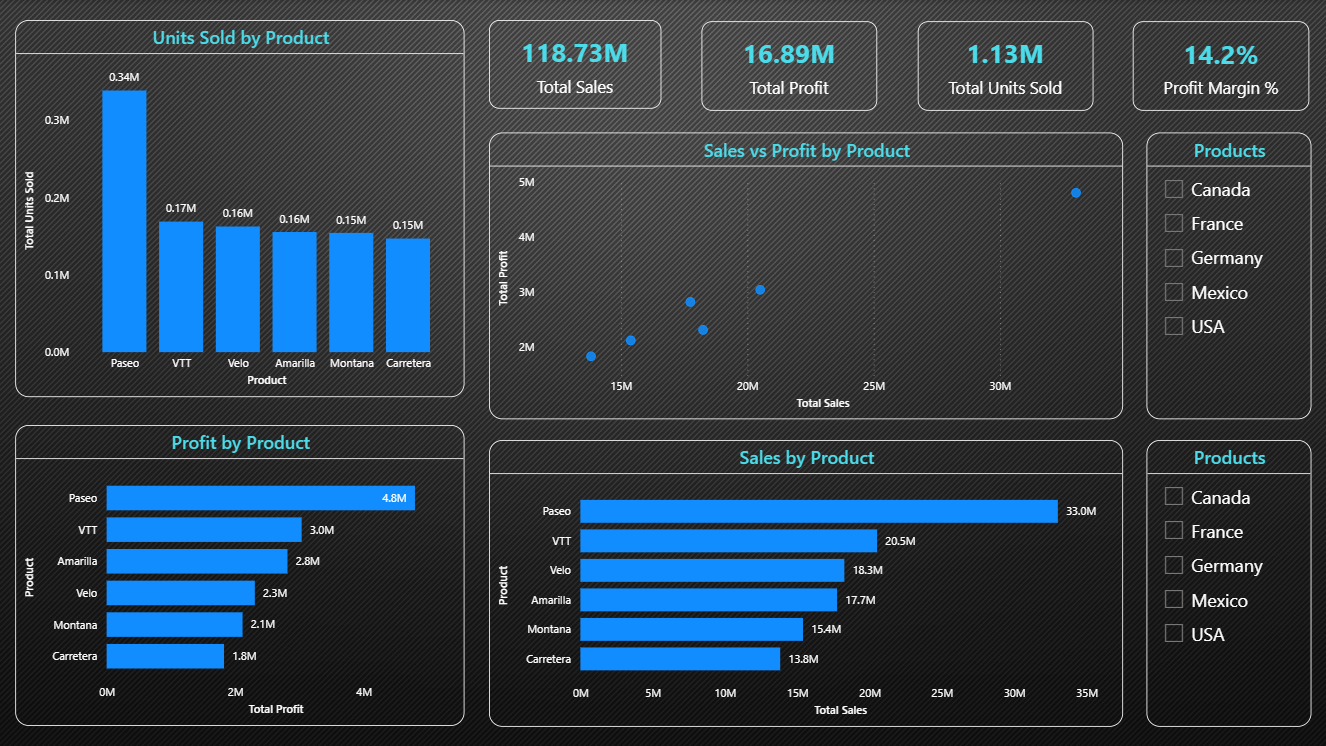

Layout of this report page (visuals, bound fields, positions):
{"tool":"powerbi","page":{"name":"Product & Profitability","canvas":[1280,720],"ordinal":1},"visuals":[{"type":"group","id":"g1","title":"Group 1","box":[472.6,19.4,792.3,87.2],"z":0},{"type":"card","fields":{"Values":["Measures_.Total Sales"]},"box":[472.6,19.4,166.1,85.6],"z":0,"group":"g1"},{"type":"card","fields":{"Values":["Measures_.Total Profit"]},"box":[677.6,20.1,169.4,86.1],"z":1000,"group":"g1"},{"type":"clusteredBarChart","title":"Sales by Product","fields":{"Category":["Financials.Product"],"Y":["Measures_.Total Sales"]},"box":[472.6,424.2,612.1,277],"z":1000},{"type":"card","fields":{"Values":["Measures_.Total Units Sold"]},"box":[886,20.1,169.4,86.1],"z":2000,"group":"g1"},{"type":"clusteredBarChart","title":"Profit by Product","fields":{"Category":["Financials.Product"],"Y":["Measures_.Total Profit"]},"box":[15.5,410.7,433.9,290.6],"z":2000},{"type":"clusteredColumnChart","title":"Units Sold by Product","fields":{"Category":["Financials.Product"],"Y":["Measures_.Total Units Sold"]},"box":[15.5,19.4,433.9,364.2],"z":3000},{"type":"card","fields":{"Values":["Measures_.Profit Margin %"]},"box":[1094.5,20.1,170.4,86.5],"z":3000,"group":"g1"},{"type":"scatterChart","title":"Sales vs Profit by Product","fields":{"Category":["Financials.Product"],"X":["Measures_.Total Sales"],"Y":["Measures_.Total Profit"]},"box":[472.6,127.8,612.1,277],"z":4000},{"type":"slicer","title":"Products","fields":{"Values":["Financials.Country"]},"box":[1108,127.8,158.8,277],"z":5000},{"type":"slicer","title":"Products","fields":{"Values":["Financials.Country"]},"box":[1108,424.2,158.8,277],"z":6000}]}

Visuals, with their boxes in screenshot pixels (x1, y1, x2, y2), scaled from the page's 1280x720 canvas onto the 1326x746 screenshot:
"Group 1" group: 490, 20, 1310, 110
card - Measures_.Total Sales: 490, 20, 662, 109
card - Measures_.Total Profit: 702, 21, 877, 110
"Sales by Product" clusteredBarChart: 490, 440, 1124, 727
card - Measures_.Total Units Sold: 918, 21, 1093, 110
"Profit by Product" clusteredBarChart: 16, 426, 466, 727
"Units Sold by Product" clusteredColumnChart: 16, 20, 466, 397
card - Measures_.Profit Margin %: 1134, 21, 1310, 110
"Sales vs Profit by Product" scatterChart: 490, 132, 1124, 419
"Products" slicer: 1148, 132, 1312, 419
"Products" slicer: 1148, 440, 1312, 727
